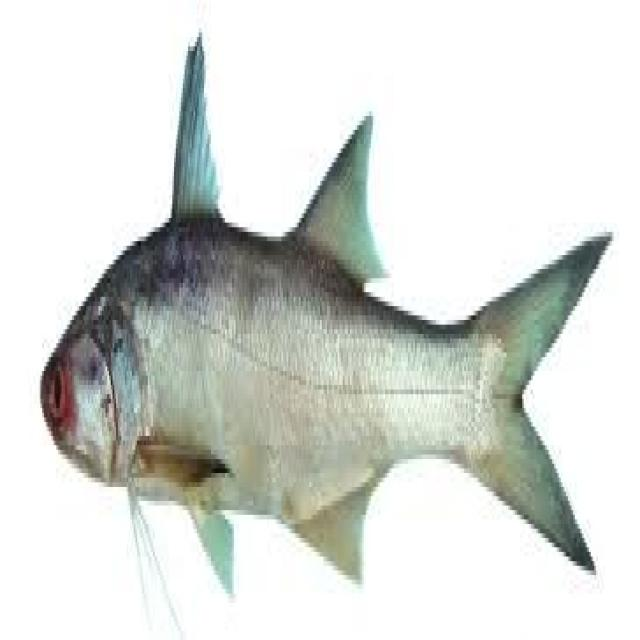Fourfinger-Threadfin: (22, 18, 620, 623)
